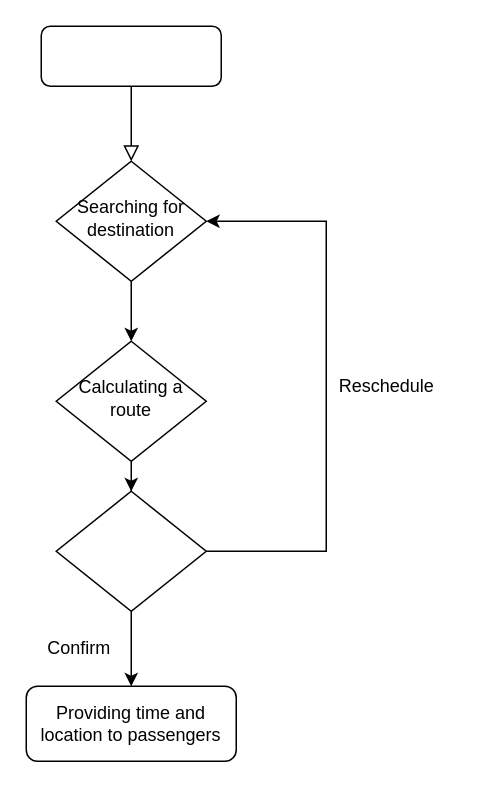
Some shapes in this 480 by 788 pixel diagram are drawn without their labels. The shapes that lost their labels are listed below. From the top down, each one's centre as x and y in pixels, then its label:
At [130,55]: "Login in".
At [130,550]: "Decision of taking a ride".
